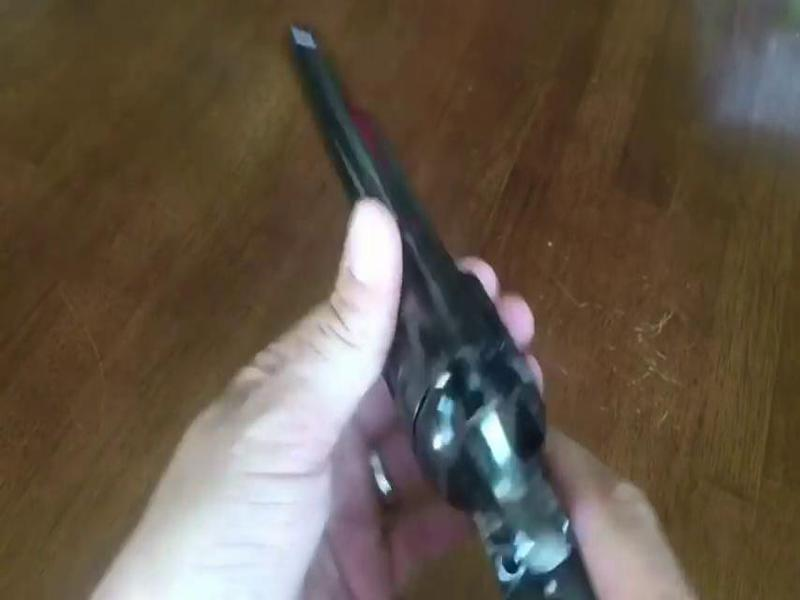Revolver: (264, 35, 585, 581)
